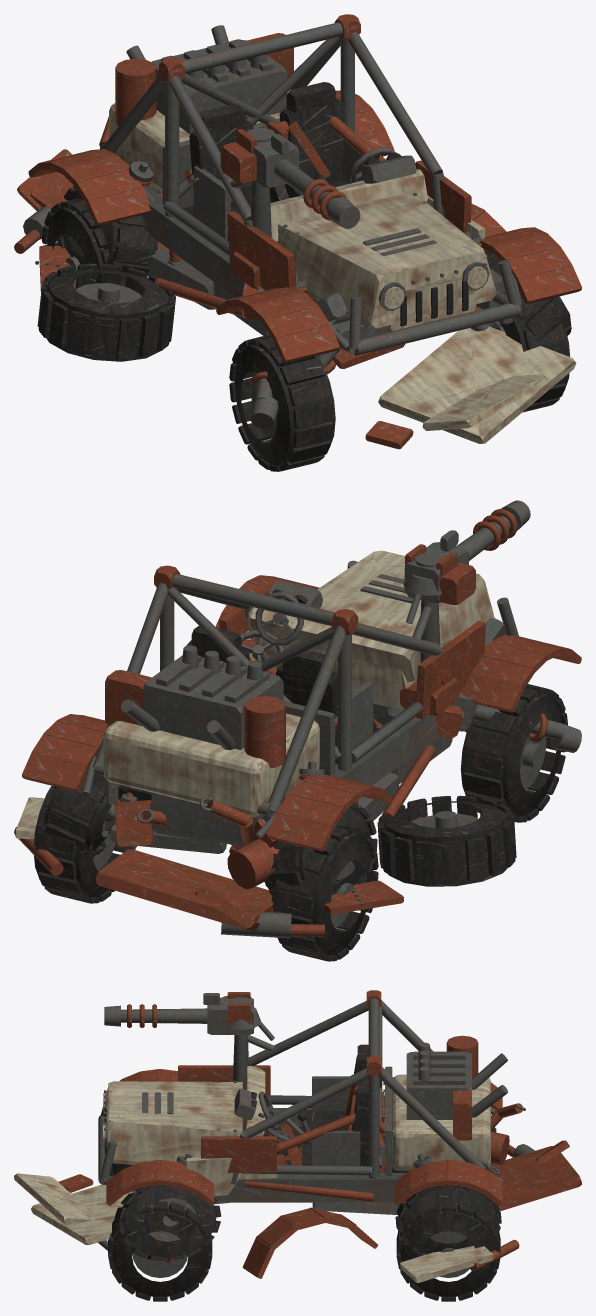
The model's file is buggy.glb.
3 views of the same model, one above another, from view 1: azimuth 30°, elevation 25°; view 2: azimuth 150°, elevation 25°; view 3: azimuth 270°, elevation 25° (orthographic). The views are drawn at different scales.
Parts seen in each view (by area): view 1: buggy_body, wreckage_debris, wreckage_wheels, wheel_front_left, turret_pitch, wreckage_chassis, wheel_rear_left, wreckage_cage, wheel_front_right, wreckage_turret, turret_yaw_mesh; view 2: buggy_body, wreckage_wheels, wreckage_debris, wheel_front_left, wheel_rear_left, wreckage_engine, turret_pitch, wheel_rear_right, wreckage_chassis, wreckage_turret, wreckage_cage, turret_yaw_mesh; view 3: buggy_body, wreckage_debris, wreckage_wheels, wheel_front_right, wheel_rear_right, wreckage_chassis, turret_pitch, wreckage_cage, wreckage_engine, turret_yaw_mesh.
Boxes of the visible parts, bbox=[...] form: buggy_body: bbox=[28, 14, 581, 366]; wreckage_debris: bbox=[14, 149, 576, 449]; wreckage_wheels: bbox=[37, 185, 571, 361]; wheel_front_left: bbox=[229, 334, 335, 471]; turret_pitch: bbox=[220, 127, 360, 228]; wreckage_chassis: bbox=[146, 184, 513, 368]; wheel_rear_left: bbox=[42, 198, 147, 292]; wreckage_cage: bbox=[154, 116, 385, 317]; wheel_front_right: bbox=[500, 315, 569, 412]; wreckage_turret: bbox=[242, 283, 335, 428]; turret_yaw_mesh: bbox=[236, 121, 288, 153]; buggy_body: bbox=[22, 550, 581, 851]; wreckage_wheels: bbox=[43, 776, 516, 894]; wreckage_debris: bbox=[14, 797, 422, 938]; wheel_front_left: bbox=[460, 684, 567, 822]; wheel_rear_left: bbox=[271, 825, 378, 961]; wreckage_engine: bbox=[114, 792, 279, 889]; turret_pitch: bbox=[404, 500, 530, 624]; wheel_rear_right: bbox=[34, 785, 135, 903]; wreckage_chassis: bbox=[110, 618, 506, 853]; wreckage_turret: bbox=[387, 692, 581, 752]; wreckage_cage: bbox=[120, 639, 435, 817]; turret_yaw_mesh: bbox=[403, 544, 457, 595]; buggy_body: bbox=[98, 990, 508, 1205]; wreckage_debris: bbox=[14, 1140, 581, 1283]; wreckage_wheels: bbox=[114, 1096, 501, 1260]; wheel_front_right: bbox=[108, 1198, 212, 1301]; wheel_rear_right: bbox=[396, 1203, 500, 1301]; wreckage_chassis: bbox=[132, 1124, 408, 1214]; turret_pitch: bbox=[104, 993, 274, 1040]; wreckage_cage: bbox=[244, 1084, 392, 1201]; wreckage_engine: bbox=[488, 1103, 525, 1174]; turret_yaw_mesh: bbox=[227, 992, 260, 1029].
Size of what is drawn, in the model's own units: 3.62 by 2.35 by 5.39.
Materials: 1 (1 with a texture image).
